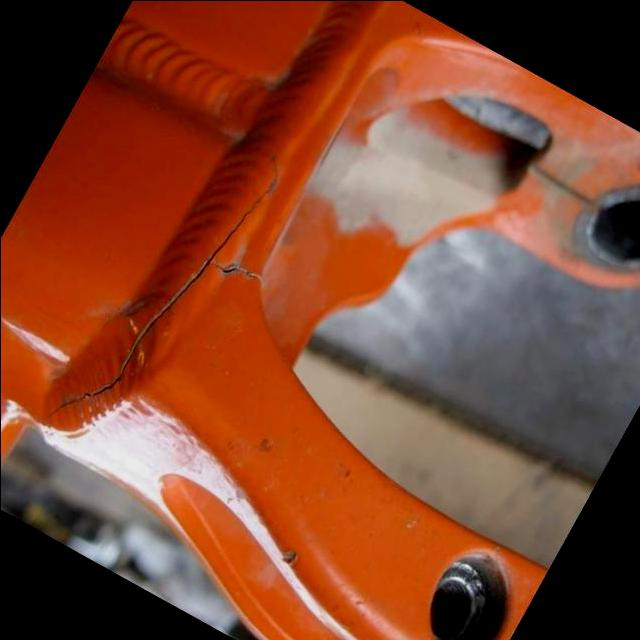defect: (42, 147, 281, 420)
